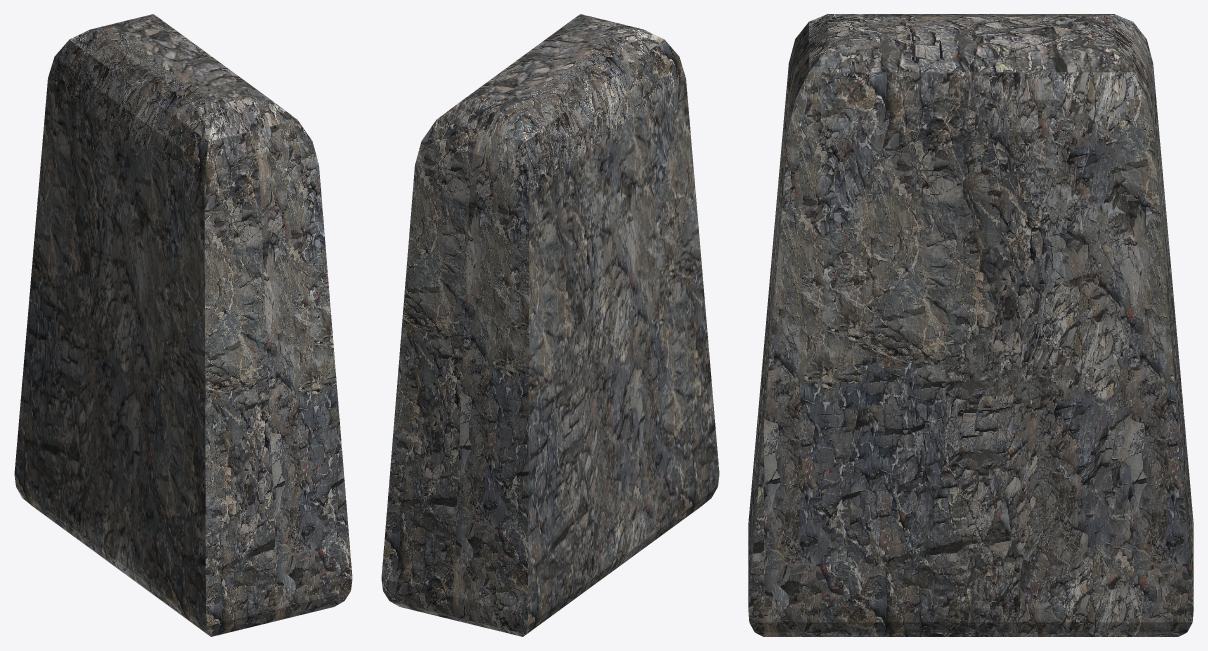
File: tombstone.fbx
3 renders of one model, left to right at view 1: azimuth 30°, elevation 25°; view 2: azimuth 150°, elevation 25°; view 3: azimuth 270°, elevation 25°, orthographic. The views are drawn at different scales.
Parts seen in each view (by area): view 1: Cube; view 2: Cube; view 3: Cube.
Part boxes in pixels (x1,y1,x2,y2): Cube: (14,14,352,636); Cube: (381,14,719,636); Cube: (748,14,1193,636).
Size of the model in its own units: 74.44 by 241 by 168.
